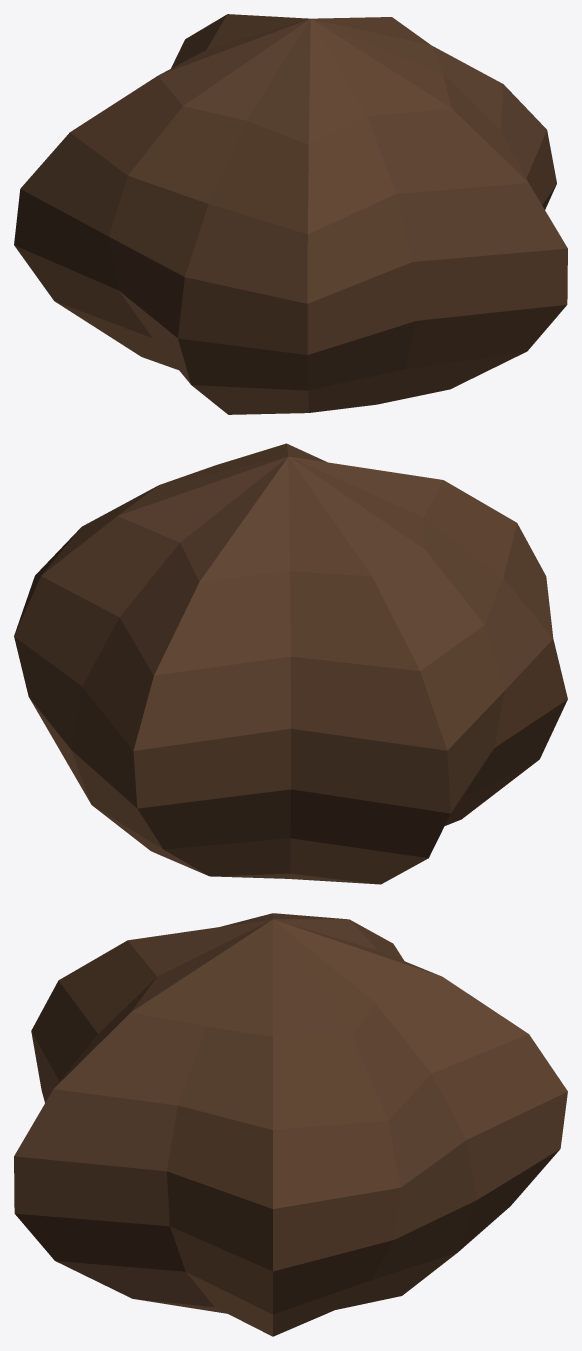
Rendered from UB_ROOTNODE_ARMORED_LODs.fbx.
3 views of the same model, one above another, from view 1: azimuth 30°, elevation 25°; view 2: azimuth 150°, elevation 25°; view 3: azimuth 270°, elevation 25° (orthographic). The views are drawn at different scales.
Parts seen in each view (by area): view 1: UB_ROOTNODE_ARMORED_LOD0; view 2: UB_ROOTNODE_ARMORED_LOD0; view 3: UB_ROOTNODE_ARMORED_LOD0.
Boxes of the visible parts, <box> form: UB_ROOTNODE_ARMORED_LOD0: <box>14,14,567,414</box>; UB_ROOTNODE_ARMORED_LOD0: <box>14,443,567,884</box>; UB_ROOTNODE_ARMORED_LOD0: <box>14,913,567,1336</box>.
Size of what is drawn, in the model's own units: 400 by 320 by 400.
